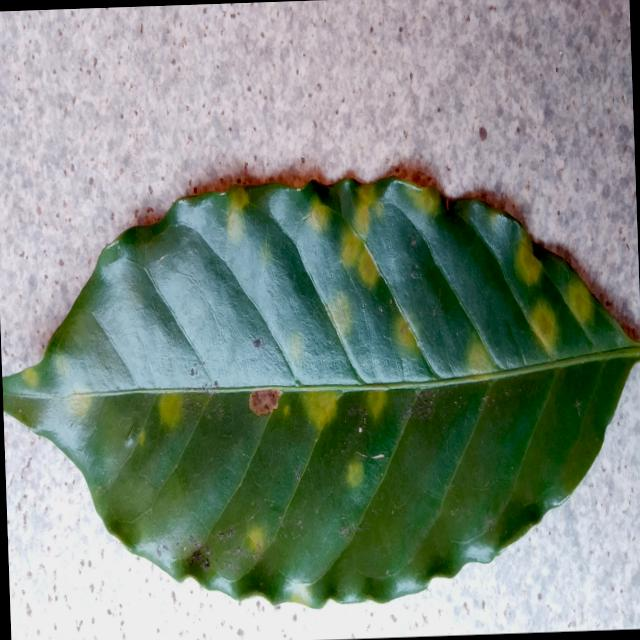KaratDaunKopi: (302, 390, 340, 430), (516, 239, 541, 285), (530, 303, 554, 350), (354, 185, 375, 236), (328, 292, 351, 337), (567, 280, 591, 323), (407, 187, 444, 214), (467, 340, 494, 373), (249, 389, 281, 415), (159, 393, 182, 427), (358, 248, 378, 286), (395, 315, 417, 348), (341, 231, 362, 265), (308, 202, 328, 231), (67, 395, 92, 418), (227, 210, 243, 242), (346, 459, 363, 487), (248, 526, 264, 553), (230, 186, 248, 209), (21, 366, 38, 387)
